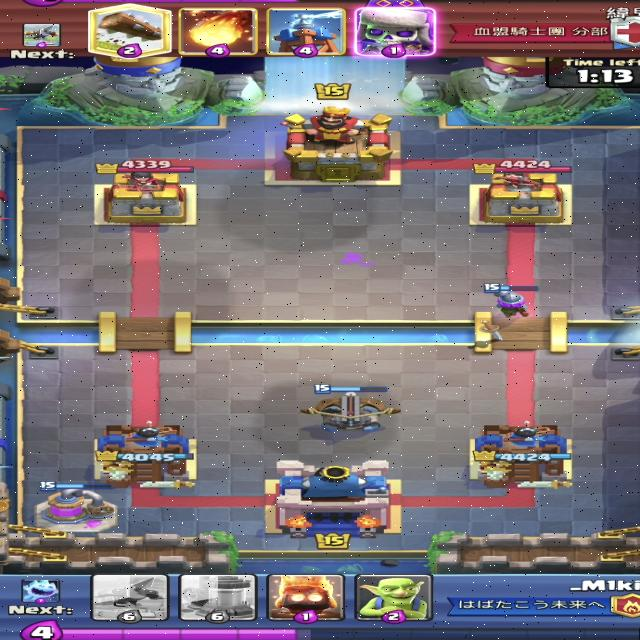Player-ElixirPump: (33, 481, 120, 534)
Player-Musketeer: (482, 282, 536, 322)
Player-XBow: (299, 384, 404, 432)
